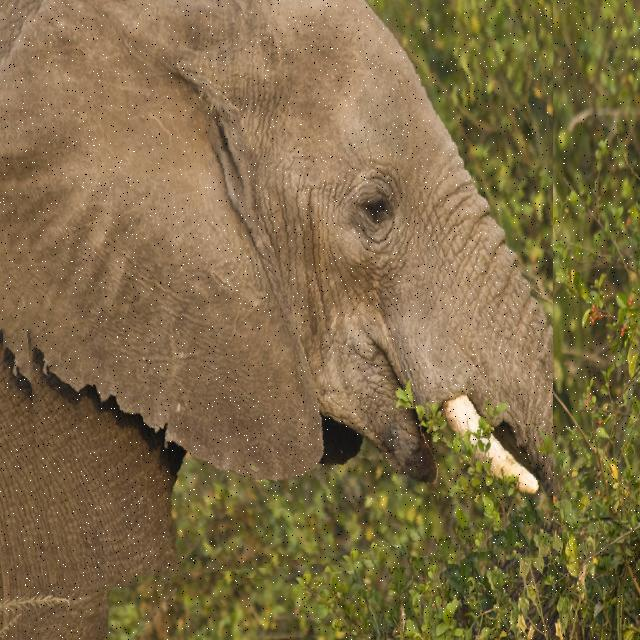elephant: (0, 0, 553, 584)
